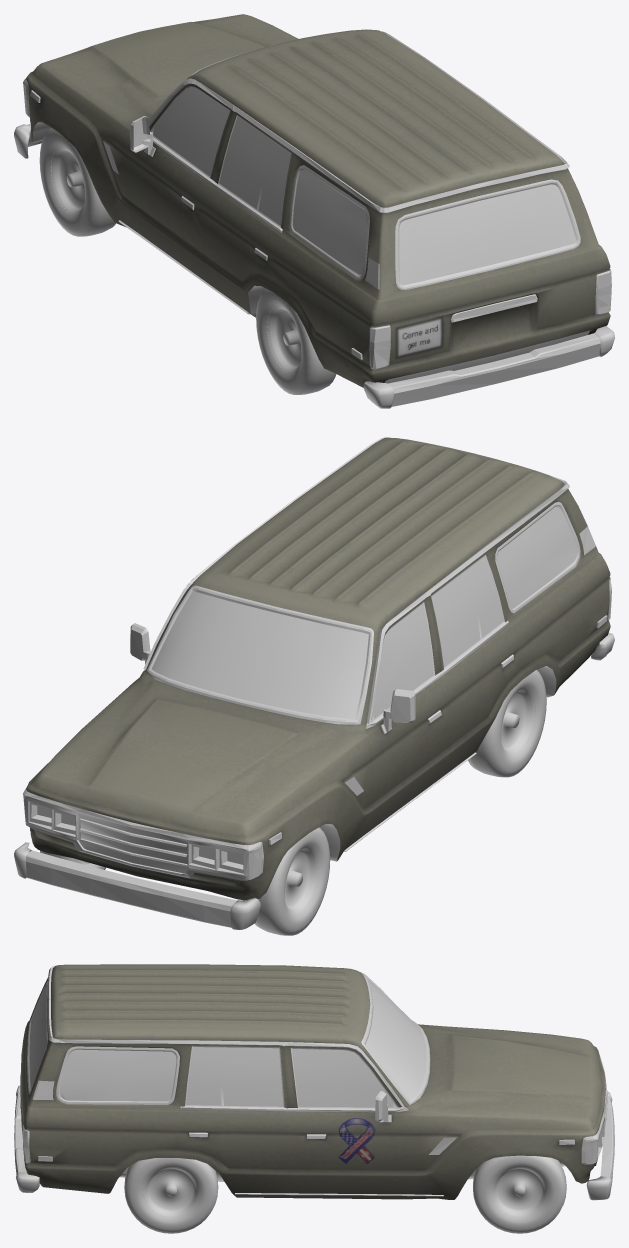
The model's file is TLC.dae.
3 renders of one model, top to bottom at view 1: azimuth 30°, elevation 25°; view 2: azimuth 150°, elevation 25°; view 3: azimuth 270°, elevation 25°, orthographic. The views are drawn at different scales.
Visible parts, largest first — view 1: TLC_Karosserie; view 2: TLC_Karosserie; view 3: TLC_Karosserie.
Boxes of the visible parts, x1=… form: TLC_Karosserie: x1=14, y1=14, x2=614, y2=408; TLC_Karosserie: x1=14, y1=437, x2=614, y2=935; TLC_Karosserie: x1=14, y1=964, x2=614, y2=1233.
Bounding box in the file's own units: 2 × 4.56 × 1.64.
13 materials, 1 textured.
